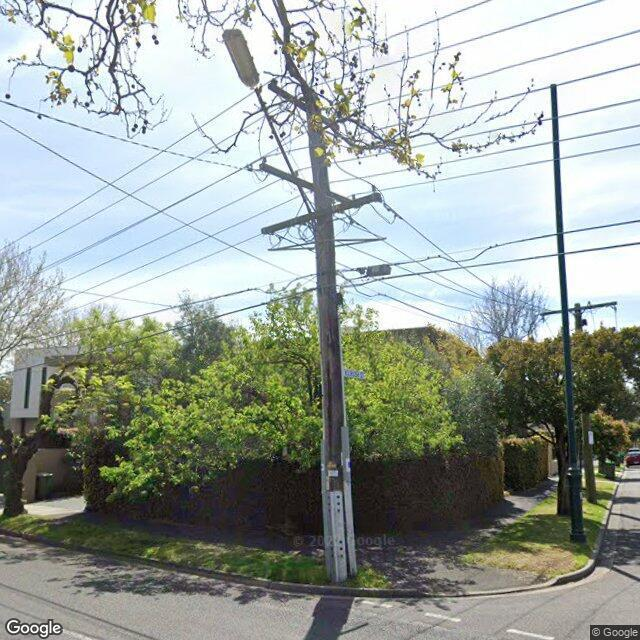crossarm: (260, 192, 382, 234), (267, 82, 341, 136), (260, 162, 355, 202), (538, 301, 618, 317)
steel-pole: (550, 82, 586, 542)
streetlight: (221, 26, 321, 239)
timber-pole: (306, 89, 356, 582), (574, 302, 596, 503)
